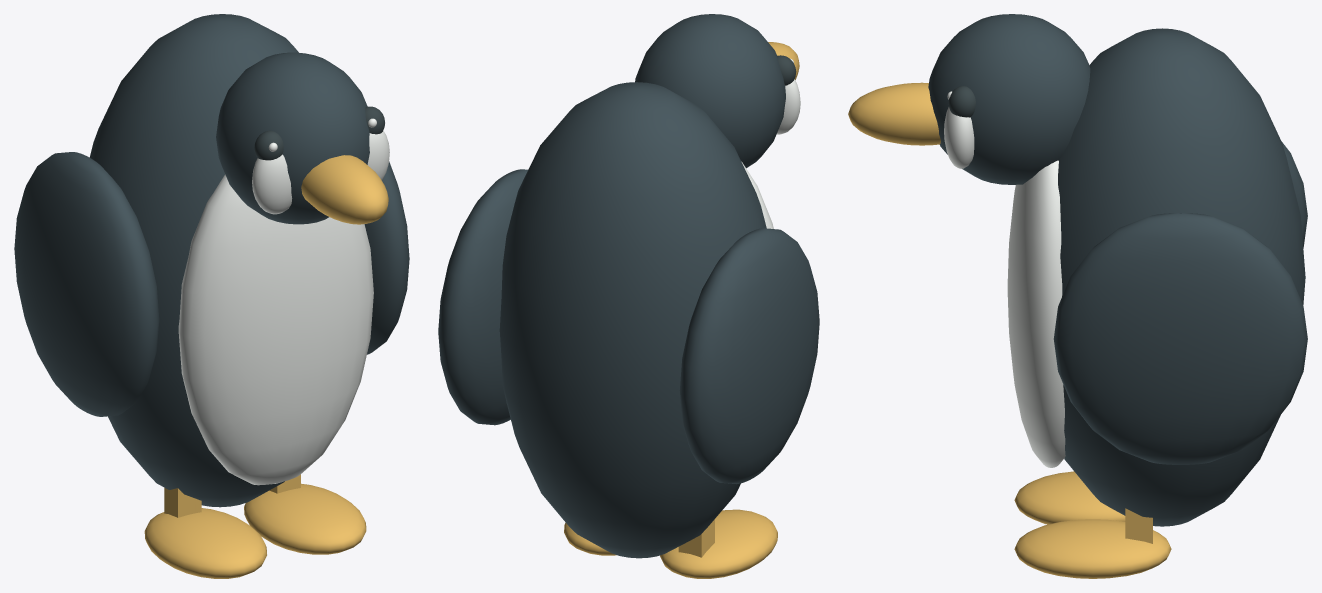
Rendered from city-penguin.glb.
3 renders of one model, left to right at view 1: azimuth 30°, elevation 25°; view 2: azimuth 150°, elevation 25°; view 3: azimuth 270°, elevation 25°, orthographic. The views are drawn at different scales.
Visible parts, largest first — view 1: Animal_penguin, Walk_FL, Walk_FR; view 2: Animal_penguin, Walk_FL, Walk_FR; view 3: Animal_penguin, Walk_FR, Walk_FL.
Boxes of the visible parts, x1,y1,x2,y2 form: Animal_penguin: (14, 14, 409, 507); Walk_FL: (144, 487, 266, 578); Walk_FR: (244, 474, 366, 554); Animal_penguin: (438, 14, 819, 558); Walk_FL: (660, 509, 777, 578); Walk_FR: (564, 522, 616, 555); Animal_penguin: (848, 14, 1307, 526); Walk_FR: (1014, 508, 1171, 578); Walk_FL: (1014, 471, 1125, 524).
Bounding box in the file's own units: 1.62 × 2.5 × 1.99.
